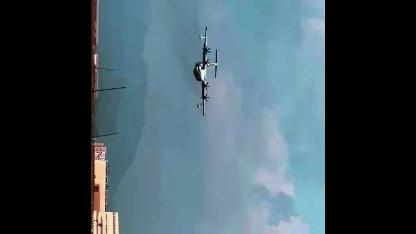AG600: (194, 26, 218, 114)
